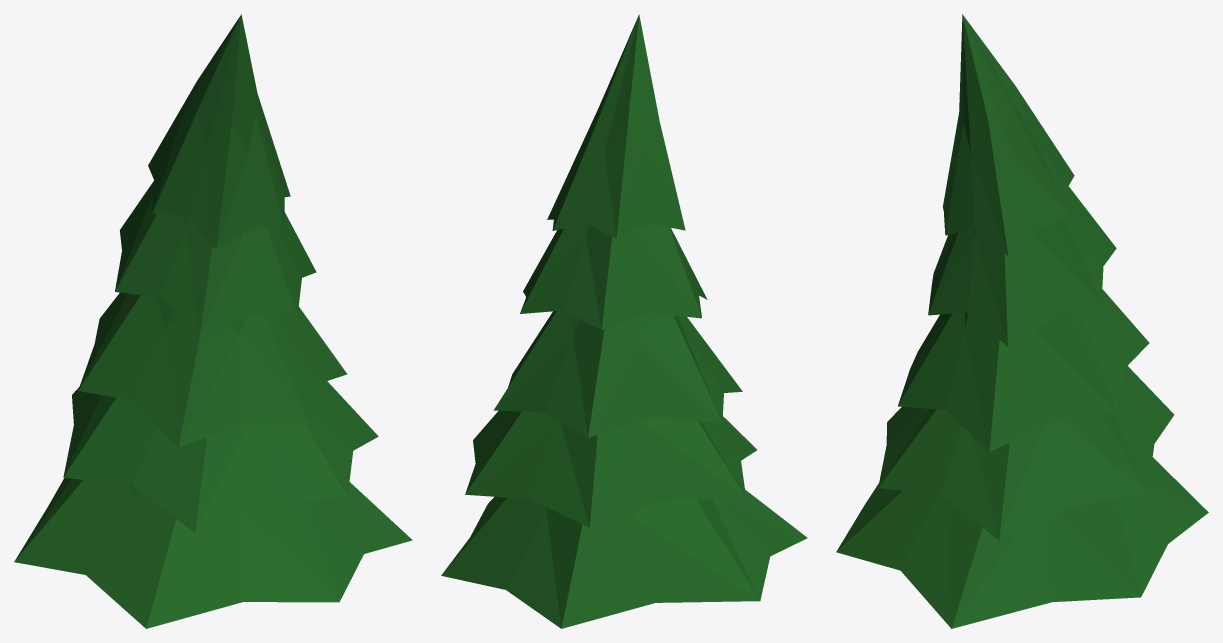
Rendered from Tree.fbx.
The picture shows the model from 3 angles, left to right: view 1: azimuth 30°, elevation 25°; view 2: azimuth 150°, elevation 25°; view 3: azimuth 270°, elevation 25°; orthographic projection. The views are drawn at different scales.
Parts seen in each view (by area): view 1: Tree; view 2: Tree; view 3: Tree.
Part boxes in pixels (x1,y1,x2,y2): Tree: (14, 14, 412, 628); Tree: (441, 14, 807, 628); Tree: (836, 14, 1208, 628).
Bounding box in the file's own units: 759 × 1220 × 746.
